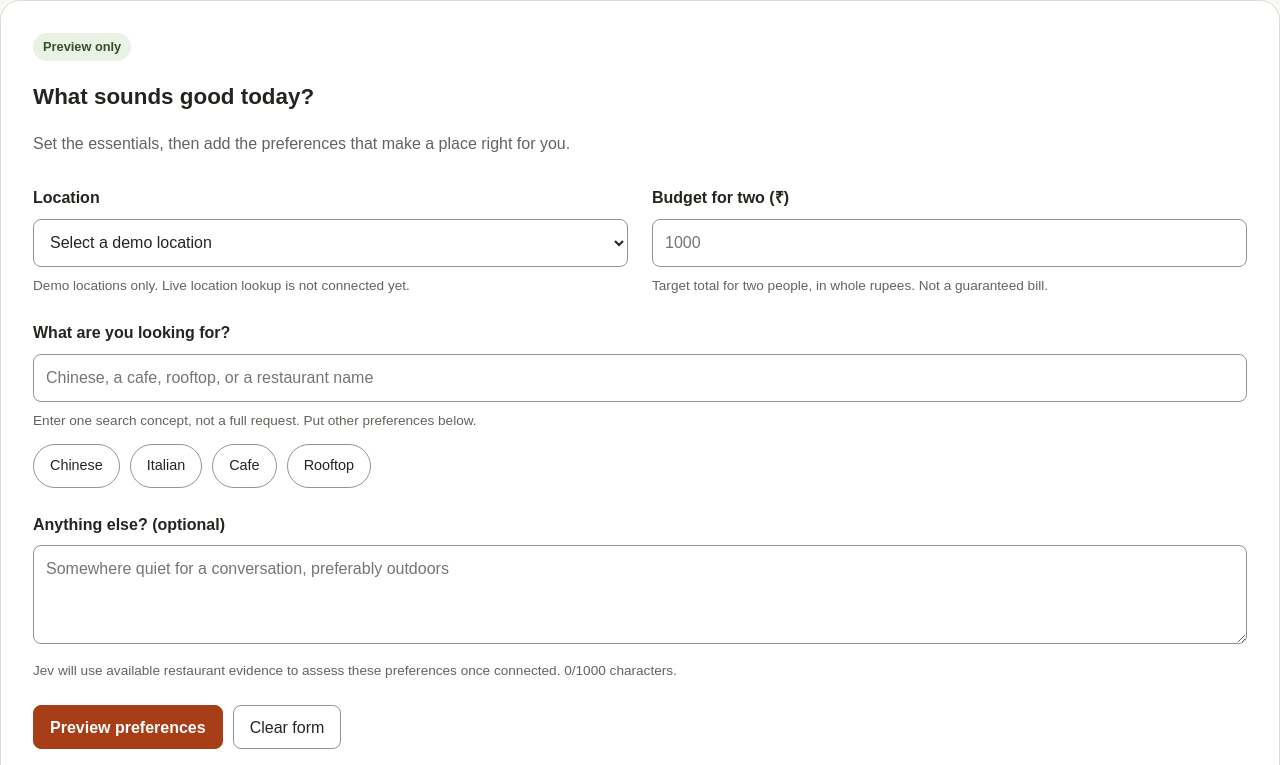
Test: SearchForm › shows validation and focuses the first invalid field
Click the button "Preview preferences".
click(128, 727)  # box top-left (33, 705), bottom-right (223, 749)
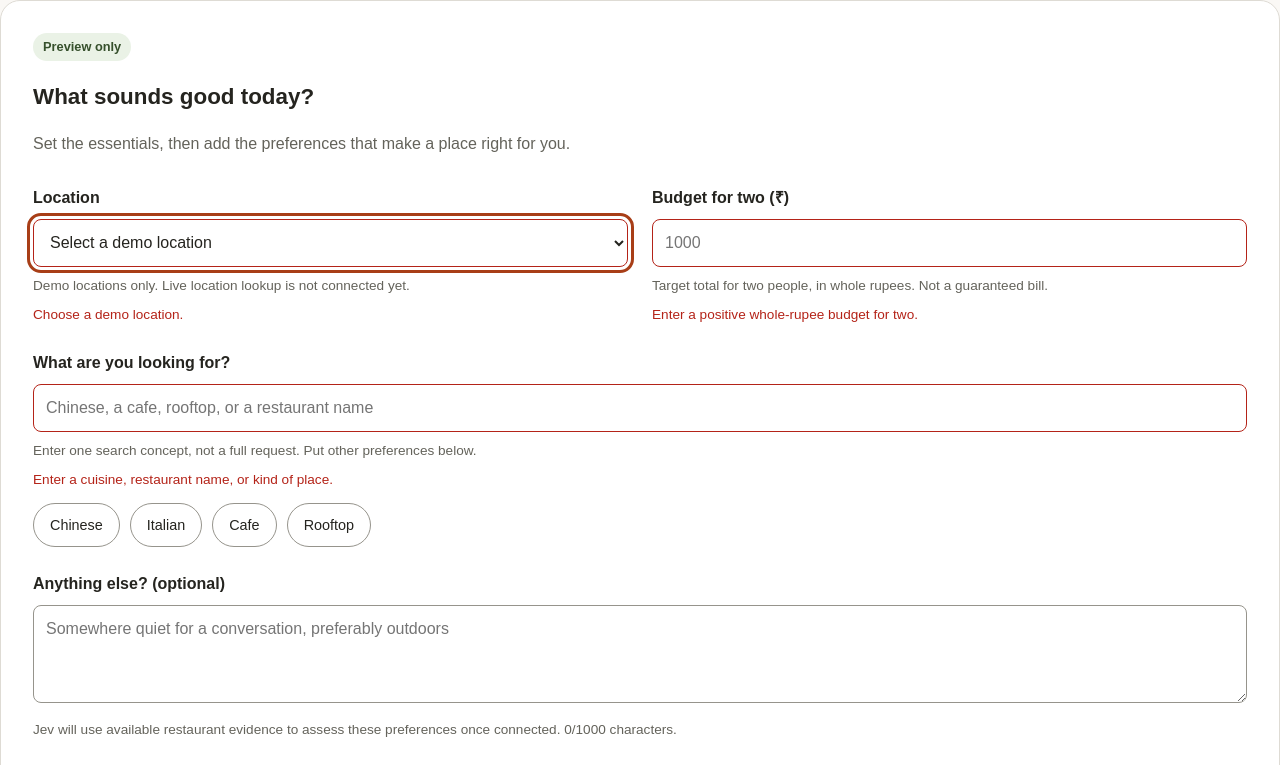
Expected: the text "Choose a demo location." is shown, top-left (33, 307), bottom-right (183, 322)
